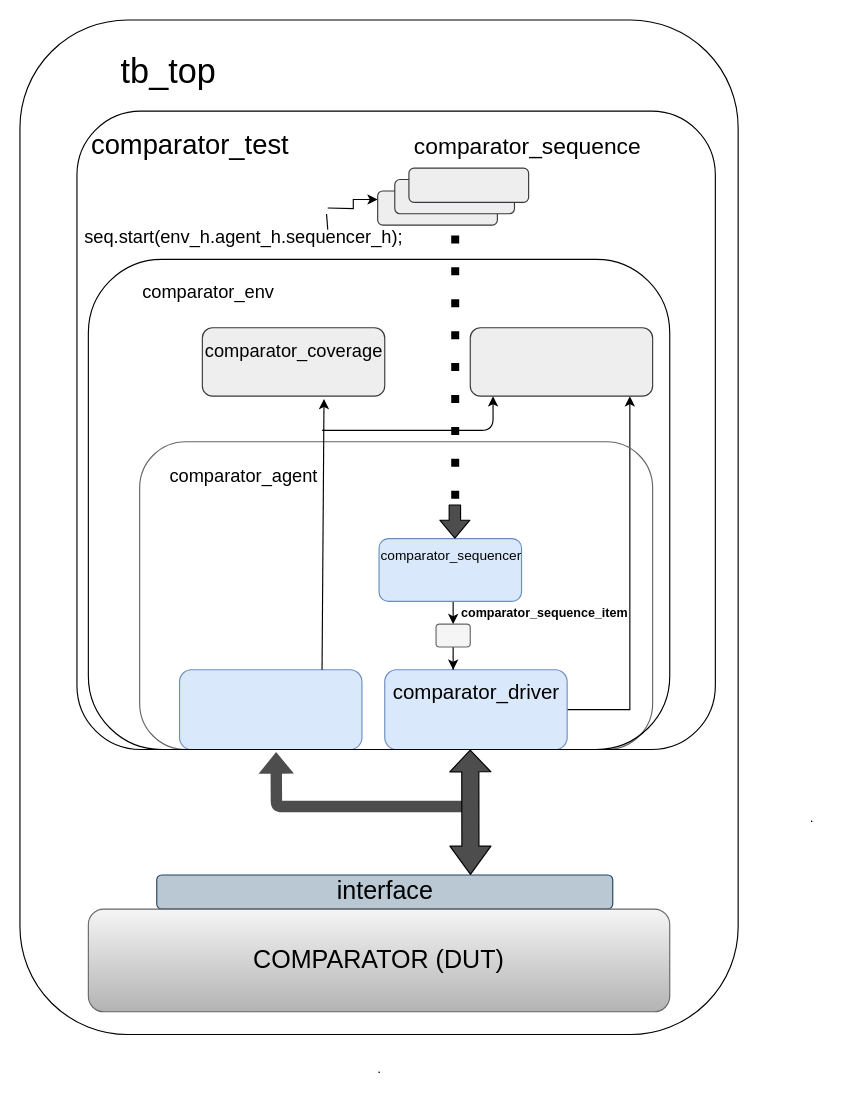
The diagram is 855 pixels wide and 1100 high, and some of its shapes have lost their labels. Each missing label, with the centre of its shape:
comparator_monitor: point (270, 709)
comparator_scoreboard: point (561, 361)
